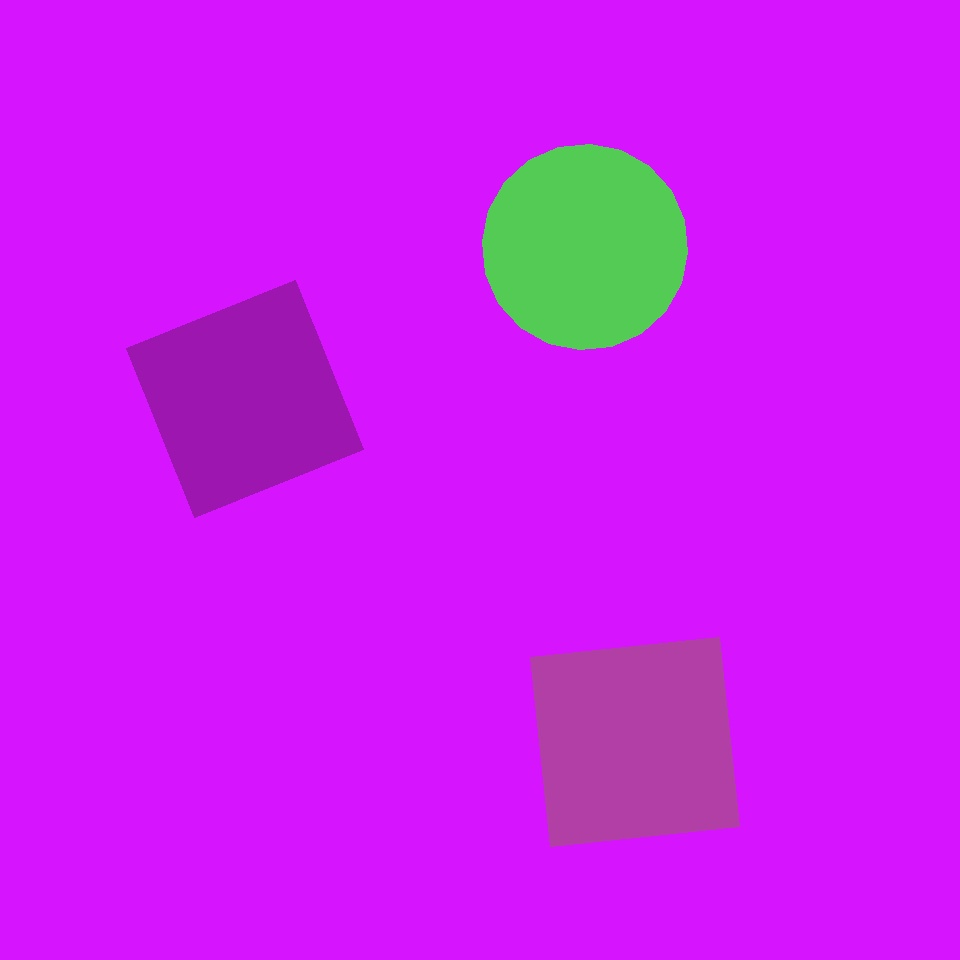circle: (473, 459, 782, 778), (364, 181, 466, 279)
square: (594, 585, 888, 878), (126, 281, 364, 518), (667, 612, 892, 836), (530, 638, 740, 846)
triangle: (482, 144, 688, 349)
